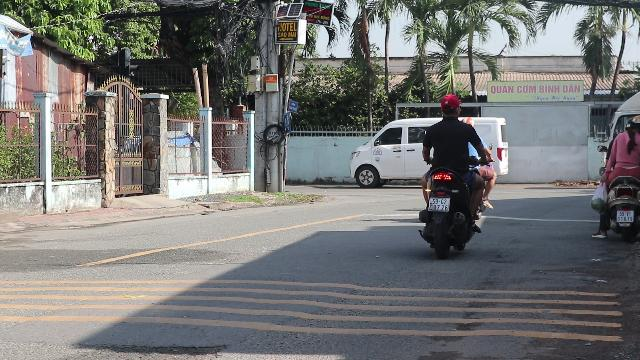helmet: (624, 115, 640, 133)
licenseplate: (428, 197, 448, 210), (617, 210, 633, 221)
motorcyclist: (414, 93, 494, 257), (592, 114, 640, 242)
nohelmet: (438, 94, 462, 118)
